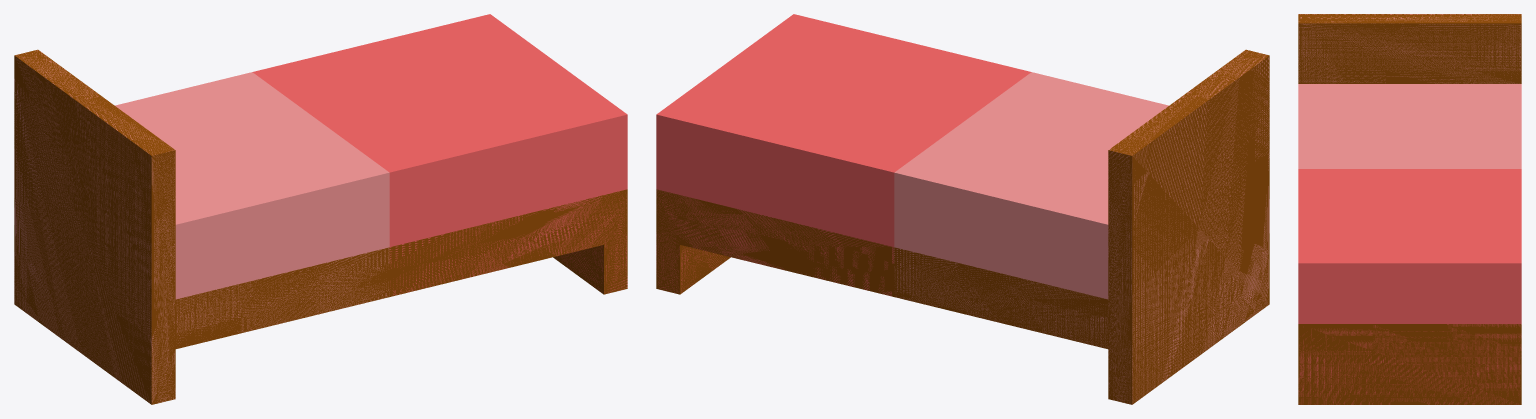
The model's file is cama.dae.
3 renders of one model, left to right at view 1: azimuth 30°, elevation 25°; view 2: azimuth 150°, elevation 25°; view 3: azimuth 270°, elevation 25°, orthographic. The views are drawn at different scales.
Parts seen in each view (by area): view 1: cama_cabecera (×2), cama_pie (×2); view 2: cama_cabecera (×2), cama_pie (×2); view 3: cama_pie (×2), cama_cabecera (×2).
Boxes of the visible parts, left/top/right/bottom form: cama_cabecera (×2): left=14, top=49, right=389, bottom=404; cama_pie (×2): left=252, top=14, right=627, bottom=296; cama_cabecera (×2): left=894, top=49, right=1269, bottom=404; cama_pie (×2): left=656, top=14, right=1031, bottom=296; cama_pie (×2): left=1298, top=169, right=1521, bottom=404; cama_cabecera (×2): left=1298, top=14, right=1521, bottom=168.
Bounding box in the file's own units: 78.74 × 39.37 × 39.37.
